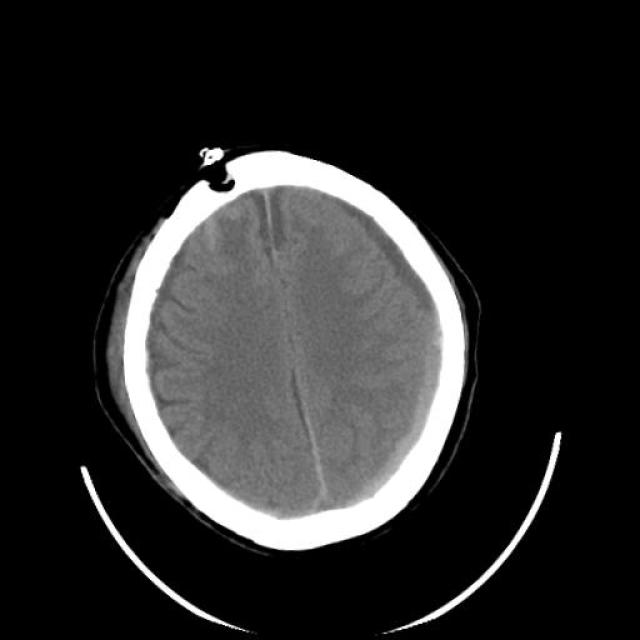Subdural: (338, 279, 494, 496)
